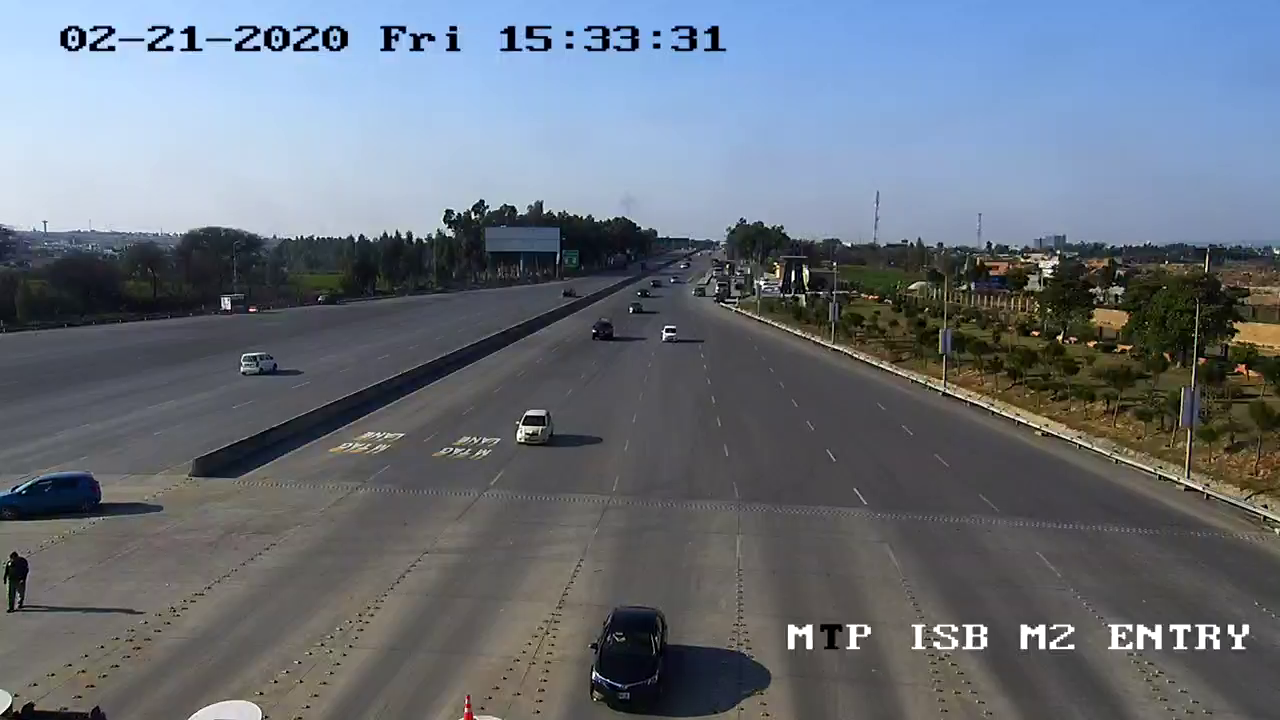f1: (568, 595, 685, 720), (506, 400, 565, 449)
